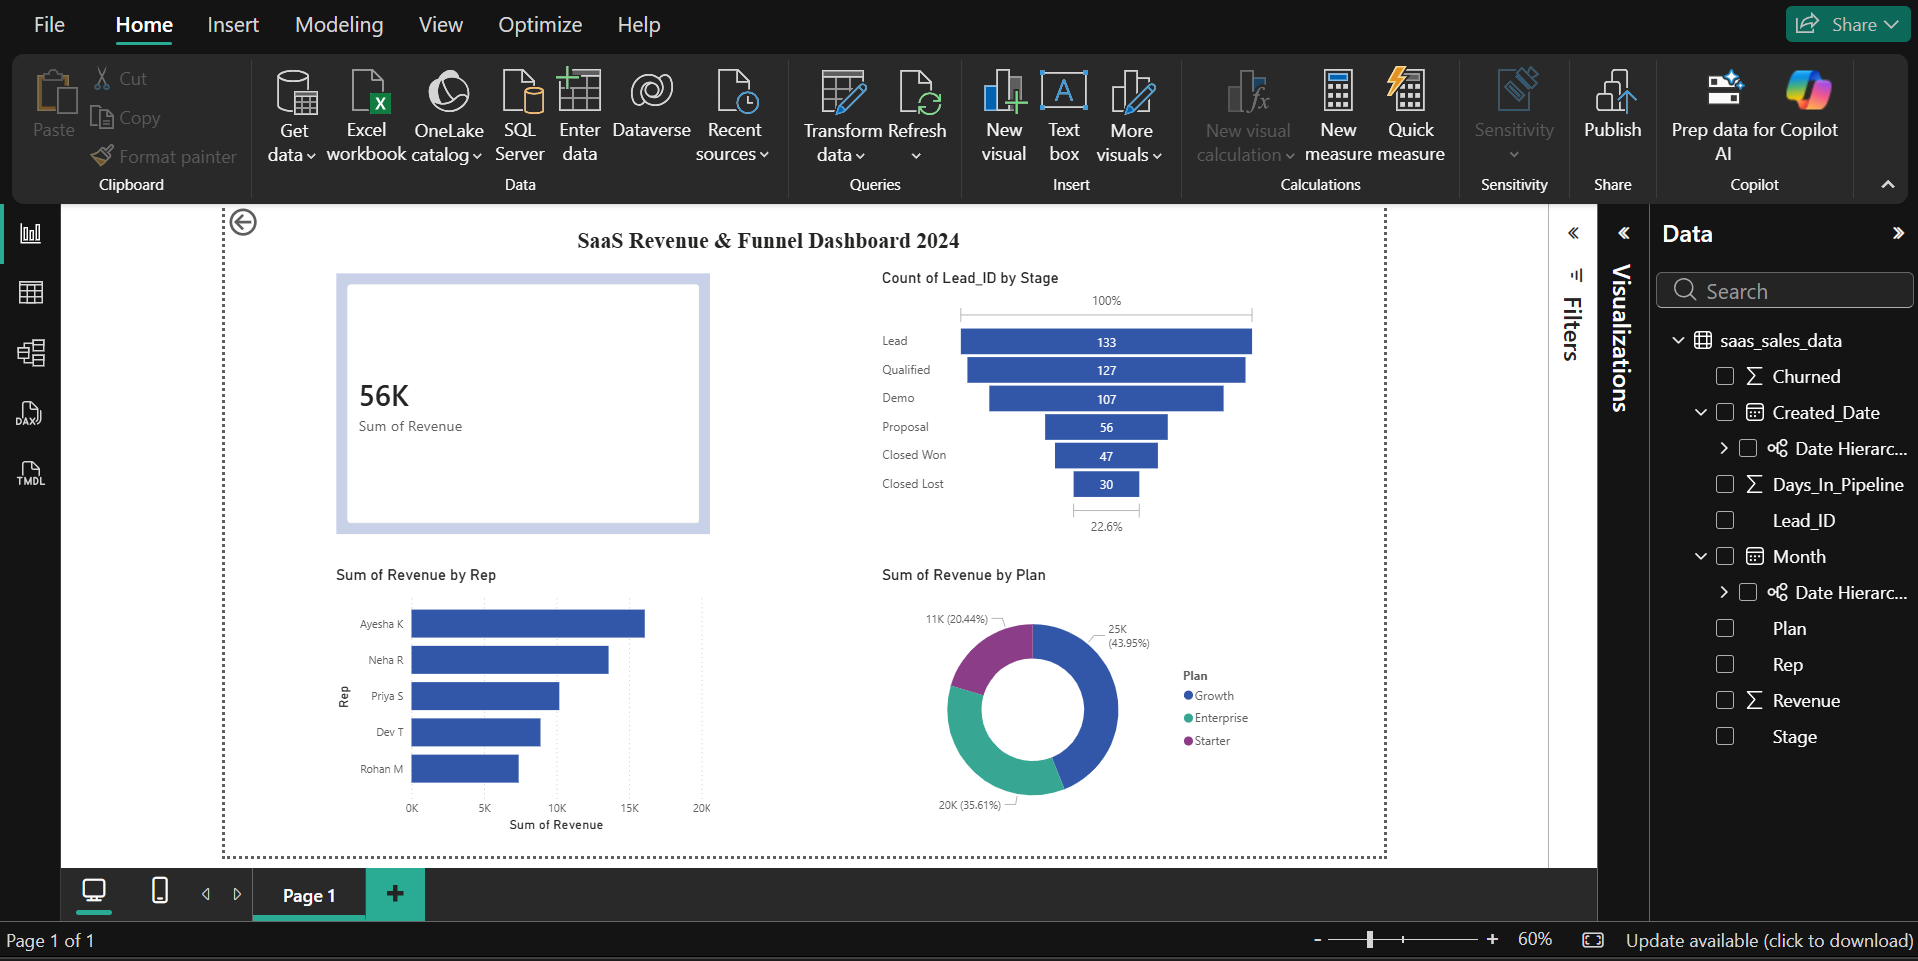

The page's visual inventory and layout, read from the dashboard file:
{"tool":"powerbi","page":{"name":"Page 1","canvas":[1280,720],"ordinal":0},"visuals":[{"type":"cardVisual","fields":{"Data":["Sum(saas_sales_data.Revenue)"]},"box":[117.2,71.8,423.3,298.6],"z":0},{"type":"actionButton","box":[0,0,100,40],"z":3},{"type":"funnel","fields":{"Category":["saas_sales_data.Stage"],"Y":["CountNonNull(saas_sales_data.Lead_ID)"]},"box":[720,71.8,423.3,298.6],"z":6},{"type":"clusteredBarChart","fields":{"Category":["saas_sales_data.Rep"],"Y":["Sum(saas_sales_data.Revenue)"]},"box":[117.2,398.7,423.3,298.6],"z":7},{"type":"donutChart","fields":{"Category":["saas_sales_data.Plan"],"Y":["Sum(saas_sales_data.Revenue)"]},"box":[720,398.7,423.3,298.6],"z":8},{"type":"textbox","box":[383.6,20.8,529.1,51],"z":9}]}

Visuals, with their boxes on the page's 1280x720 design canvas (x1, y1, x2, y2). These are canvas units, not pixel positions in the 1918x961 screenshot, which may show the page scaled, cropped or inside an application window:
cardVisual - Sum(saas_sales_data.Revenue): [left=117, top=72, right=540, bottom=370]
actionButton: [left=0, top=0, right=100, bottom=40]
funnel - saas_sales_data.Stage x CountNonNull(saas_sales_data.Lead_ID): [left=720, top=72, right=1143, bottom=370]
clusteredBarChart - saas_sales_data.Rep x Sum(saas_sales_data.Revenue): [left=117, top=399, right=540, bottom=697]
donutChart - saas_sales_data.Plan x Sum(saas_sales_data.Revenue): [left=720, top=399, right=1143, bottom=697]
textbox: [left=384, top=21, right=913, bottom=72]
